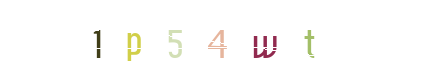1: (58, 0, 138, 80)
4: (175, 0, 255, 80)
5: (158, 0, 238, 80)
P: (137, 0, 217, 80)
T: (221, 0, 301, 80)
W: (183, 0, 263, 80)
